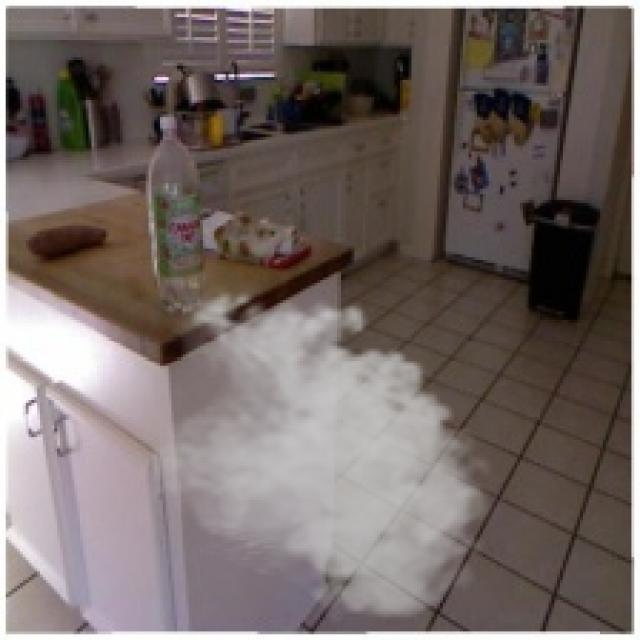smoke: (149, 280, 500, 626)
